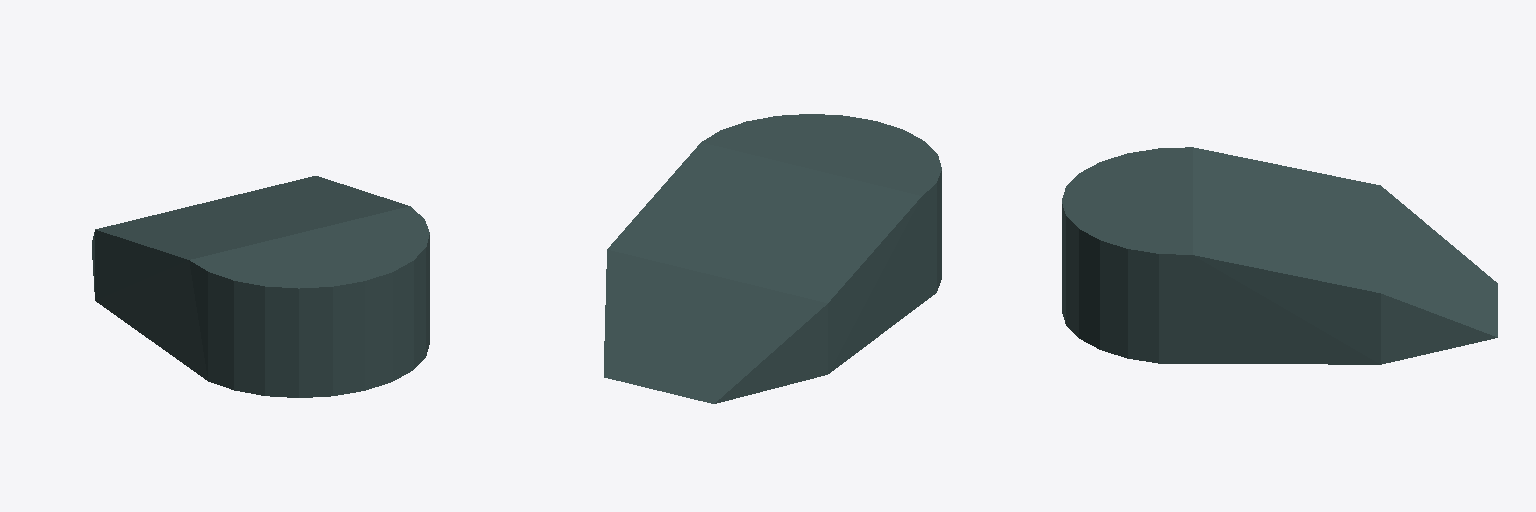
The model's file is mouse.obj.
3 renders of one model, left to right at view 1: azimuth 30°, elevation 25°; view 2: azimuth 150°, elevation 25°; view 3: azimuth 270°, elevation 25°, orthographic.
Parts seen in each view (by area): view 1: computerMouse; view 2: computerMouse; view 3: computerMouse.
Part boxes in pixels (x1,y1,x2,y2): computerMouse: (92, 176, 429, 397); computerMouse: (604, 114, 941, 403); computerMouse: (1062, 147, 1497, 364).
Size of the model in its own units: 0.0497 by 0.0236 by 0.0851.